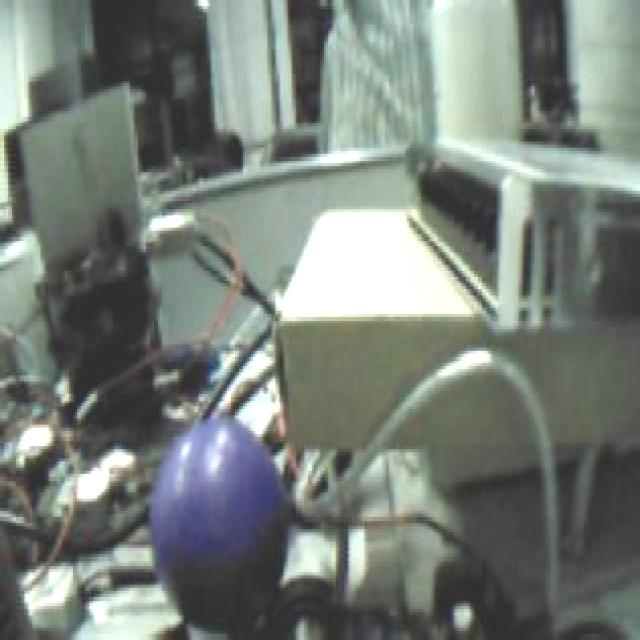BallPurple: (150, 417, 288, 624)
